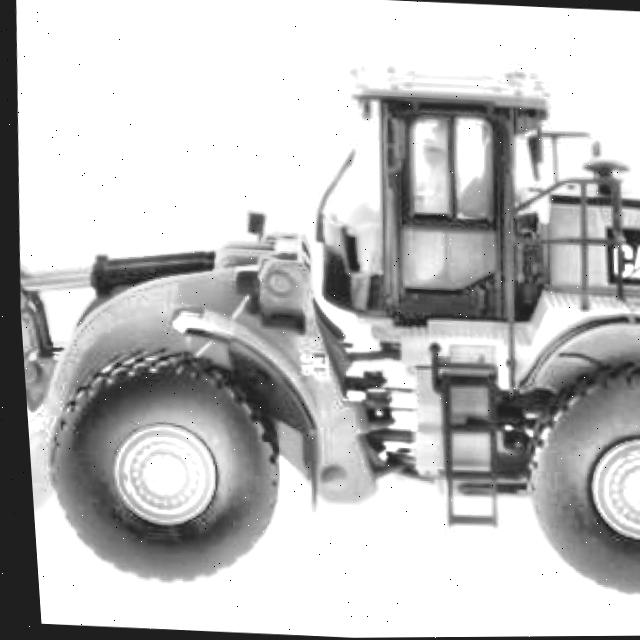buldozerpayloadergrader: (2, 33, 640, 629)
